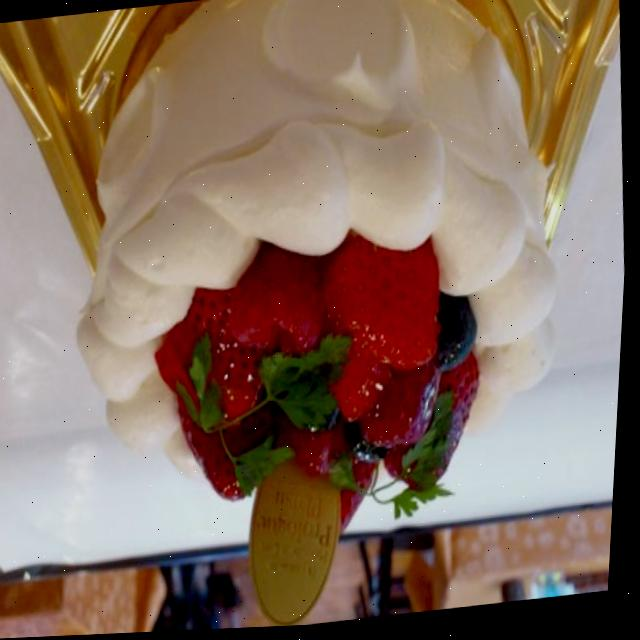蛋糕甜品: (13, 0, 627, 639)
